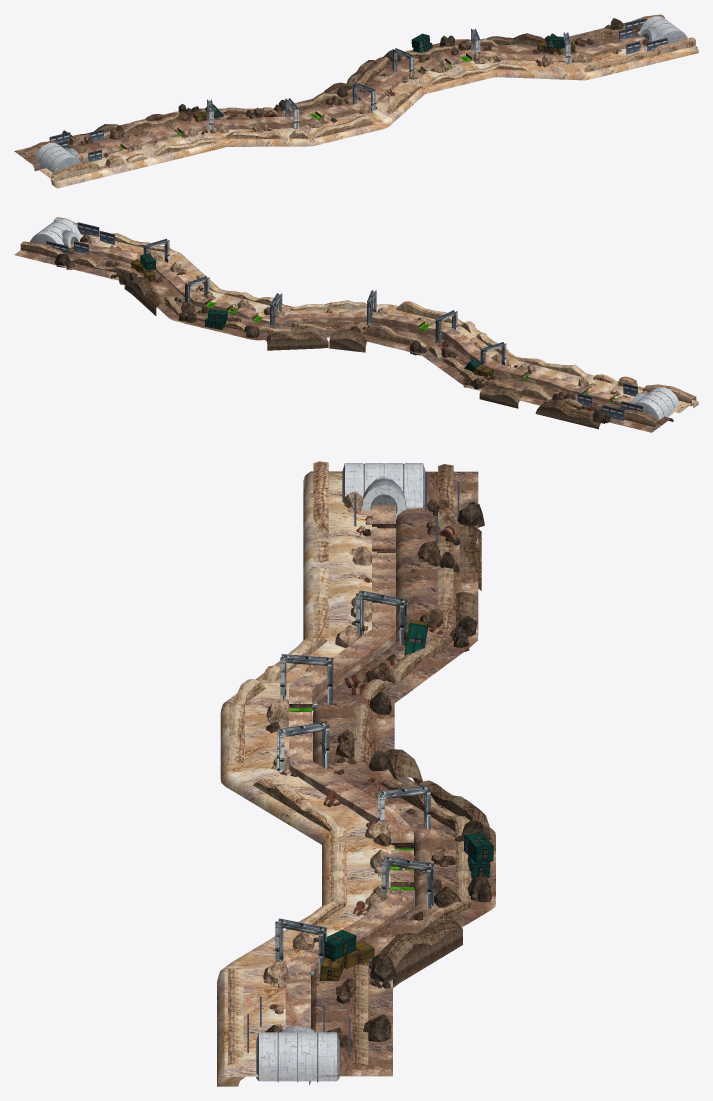
Rendered from Stage1.obj.
3 views of the same model, one above another, from view 1: azimuth 30°, elevation 25°; view 2: azimuth 150°, elevation 25°; view 3: azimuth 270°, elevation 25° (orthographic). The views are drawn at different scales.
Visible parts, largest first — view 1: Object004, Object010, Object005, Plane001, Object006, Gengon004, Box039, Object008, Object003, Box008, Object007, Cylinder020 (+3 smaller); view 2: Plane001, Object005, Object003, Object006, Object004, Object010, Box039, Object007, Box008, Gengon004, Object008, Cylinder020 (+3 smaller); view 3: Object004, Object005, Plane001, Object010, Object006, Object003, Box039, Object007, Cylinder021, Gengon004, Object008, Cylinder020 (+2 smaller).
Boxes of the visible parts, x1,y1,x2,y2 form: Object004: (39,46,698,188); Object010: (51,37,695,181); Object005: (14,22,640,171); Plane001: (78,37,648,159); Object006: (22,14,664,160); Gengon004: (79,42,646,163); Box039: (207,28,570,131); Object008: (65,25,649,145); Object003: (78,33,545,138); Box008: (49,18,667,161); Object007: (62,18,637,155); Cylinder020: (34,143,81,173); Plane001: (71,241,632,405); Object005: (14,250,673,432); Object003: (124,277,604,429); Object006: (20,241,659,427); Object004: (79,234,698,413); Object010: (54,217,696,405); Box039: (143,238,506,366); Object007: (54,254,614,423); Box008: (46,222,643,420); Gengon004: (87,238,648,396); Object008: (68,234,622,409); Cylinder020: (631,387,679,419); Object004: (217,471,394,1086); Object005: (309,471,495,1085); Plane001: (285,505,413,1028); Object010: (228,461,346,1065); Object006: (352,464,471,1064); Object003: (381,525,489,987); Box039: (275,590,433,976); Object007: (266,501,491,1044); Cylinder021: (256,1026,339,1082); Gengon004: (262,491,409,1031); Object008: (265,499,460,1047); Cylinder020: (342,463,425,519).
Size of the model in its own units: 4820 by 227 by 939.
Materials: 20 (20 with a texture image).
